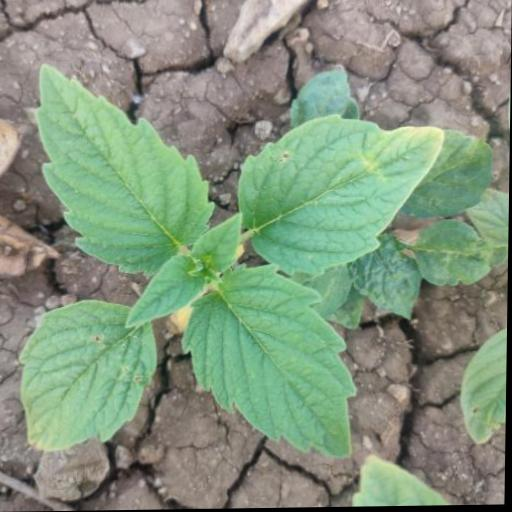crop: (6, 63, 466, 484)
